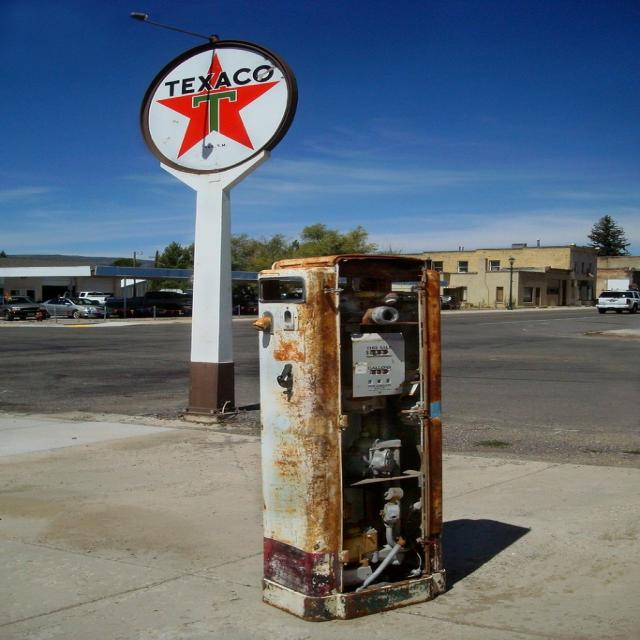texaco: (146, 49, 289, 173)
